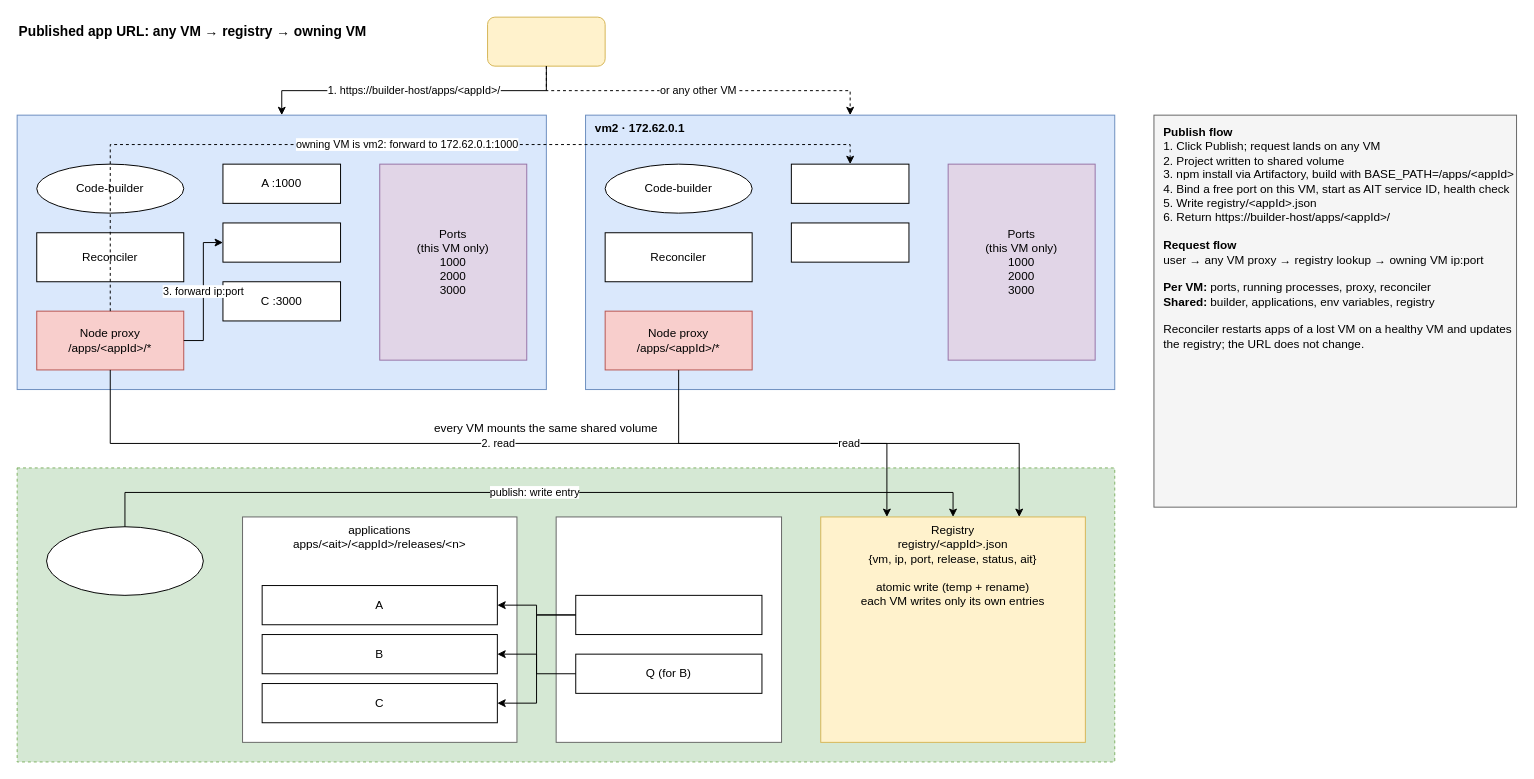
This 1534x779 diagram has some shape labels left out. The box of each missing label's shape, as (x1, y1, x2, y2) in pixels:
B :1000: (790, 163, 909, 203)
B :2000: (222, 222, 341, 262)
C :2000: (790, 222, 909, 262)
Code-builder (installed once): (46, 526, 203, 595)
Environment variables namespace (no port values): (555, 516, 782, 742)
P (for A, C): (575, 594, 762, 635)
Shared volume (NAAS) — mounted by every VM, identical on each: (16, 467, 1115, 762)
User browser: (487, 16, 605, 66)
vm1 · 172.56.7.2: (16, 114, 546, 390)
